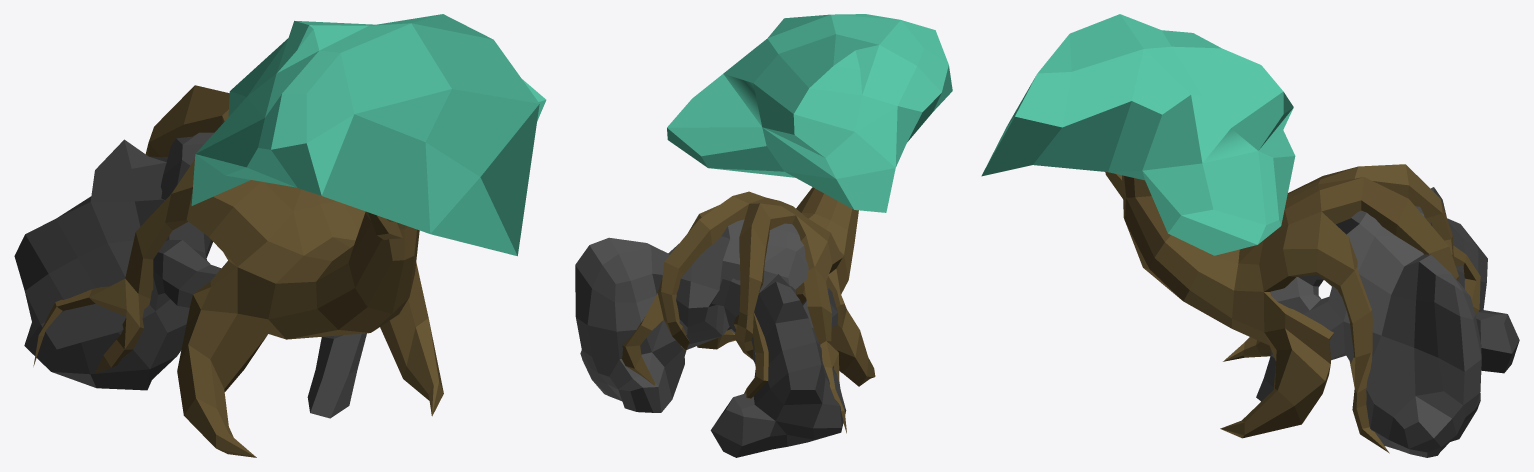
File: en_weenyElephant.fbx
The picture shows the model from 3 angles, left to right: view 1: azimuth 30°, elevation 25°; view 2: azimuth 150°, elevation 25°; view 3: azimuth 270°, elevation 25°; orthographic projection. The views are drawn at different scales.
Parts seen in each view (by area): view 1: en_weenyElephant; view 2: en_weenyElephant; view 3: en_weenyElephant.
Boxes of the visible parts, bbox=[...] form: en_weenyElephant: bbox=[14, 14, 546, 457]; en_weenyElephant: bbox=[575, 14, 952, 457]; en_weenyElephant: bbox=[981, 14, 1519, 457].
Size of the model in its own units: 11.54 by 13.23 by 18.07.
